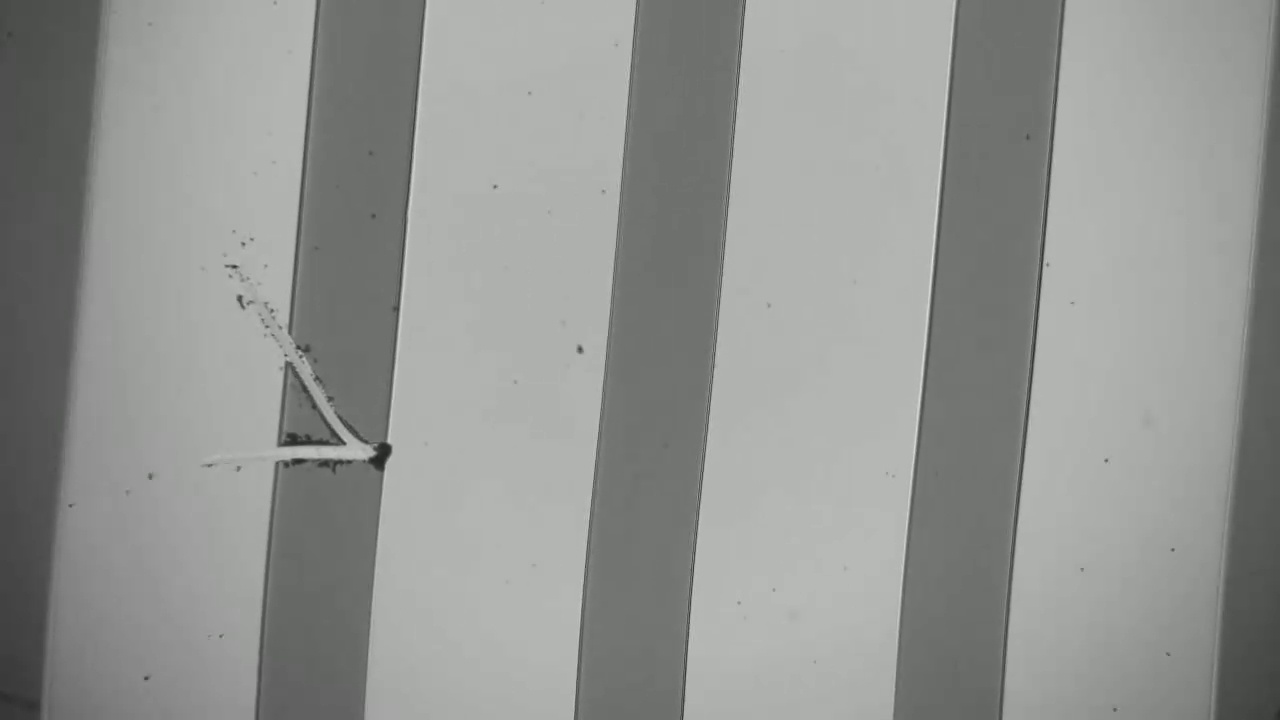Short_circuit: (249, 421, 410, 491)
